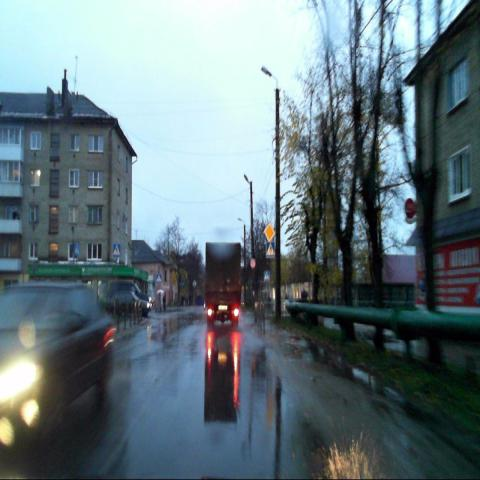2_1: (264, 223, 275, 243)
5_19_1: (266, 241, 276, 258)
